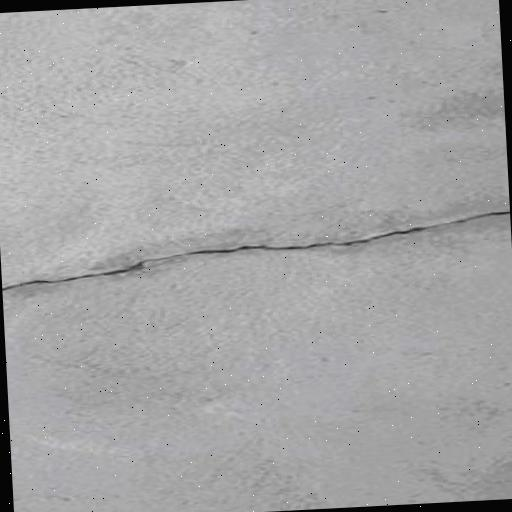spalling: (7, 206, 507, 297)
